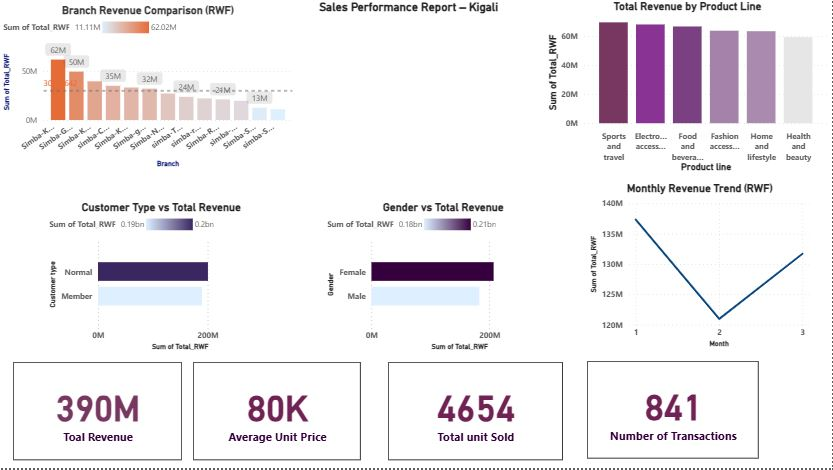

What the dashboard file says about the page in this screenshot:
{"tool":"powerbi","page":{"name":"Branch_Revenue","canvas":[1280,720],"ordinal":0},"visuals":[{"type":"clusteredColumnChart","title":"Branch Revenue Comparison (RWF)","fields":{"Y":["Sum(simba_sales_cleaned.Total_RWF)"],"Category":["simba_sales_cleaned.Branch"]},"box":[43.1,5.2,455.2,256.9],"z":0},{"type":"columnChart","title":"Total Revenue by Product Line","fields":{"Category":["simba_sales_cleaned.Product line"],"Y":["Sum(simba_sales_cleaned.Total_RWF)"]},"box":[846.6,0,432.8,269],"z":1000},{"type":"lineChart","title":"Monthly Revenue Trend (RWF)","fields":{"Y":["Sum(simba_sales_cleaned.Total_RWF)"],"Category":["simba_sales_cleaned.Month"]},"box":[903.4,279.3,346.6,258.6],"z":2000},{"type":"barChart","title":"Customer Type vs Total Revenue","fields":{"Category":["simba_sales_cleaned.Customer type"],"Y":["Sum(simba_sales_cleaned.Total_RWF)"]},"box":[70.7,308.6,355.2,234.5],"z":3000},{"type":"barChart","title":"Gender vs Total Revenue","fields":{"Category":["simba_sales_cleaned.Gender"],"Y":["Sum(simba_sales_cleaned.Total_RWF)"]},"box":[498.3,308.6,367.2,234.5],"z":4000},{"type":"card","fields":{"Values":["Sum(simba_sales_cleaned.Total_RWF)"]},"box":[19.4,556.7,259.7,150.7],"z":5000},{"type":"card","fields":{"Values":["Avg(simba_sales_cleaned.Unit_price_RWF)"]},"box":[297,556.7,258.2,150.7],"z":6000},{"type":"card","fields":{"Values":["Sum(simba_sales_cleaned.Quantity)"]},"box":[597,556.7,268.7,150.7],"z":7000},{"type":"card","fields":{"Values":["Count(simba_sales_cleaned.Invoice ID)"]},"box":[903.7,556,263.7,149.5],"z":8000},{"type":"textbox","title":"Sales Performance Report – Kigali","box":[498.3,0,315.5,79.3],"z":8001}]}

Visuals, with their boxes in screenshot pixels (x1, y1, x2, y2), scaled from the page's 1280x720 canvas onto the 833x470 screenshot:
"Branch Revenue Comparison (RWF)" clusteredColumnChart: pyautogui.locateOnScreen(28, 3, 324, 171)
"Total Revenue by Product Line" columnChart: pyautogui.locateOnScreen(551, 0, 832, 176)
"Monthly Revenue Trend (RWF)" lineChart: pyautogui.locateOnScreen(588, 182, 813, 351)
"Customer Type vs Total Revenue" barChart: pyautogui.locateOnScreen(46, 201, 277, 355)
"Gender vs Total Revenue" barChart: pyautogui.locateOnScreen(324, 201, 563, 355)
card - Sum(simba_sales_cleaned.Total_RWF): pyautogui.locateOnScreen(13, 363, 182, 462)
card - Avg(simba_sales_cleaned.Unit_price_RWF): pyautogui.locateOnScreen(193, 363, 361, 462)
card - Sum(simba_sales_cleaned.Quantity): pyautogui.locateOnScreen(389, 363, 563, 462)
card - Count(simba_sales_cleaned.Invoice ID): pyautogui.locateOnScreen(588, 363, 760, 461)
"Sales Performance Report – Kigali" textbox: pyautogui.locateOnScreen(324, 0, 530, 52)
